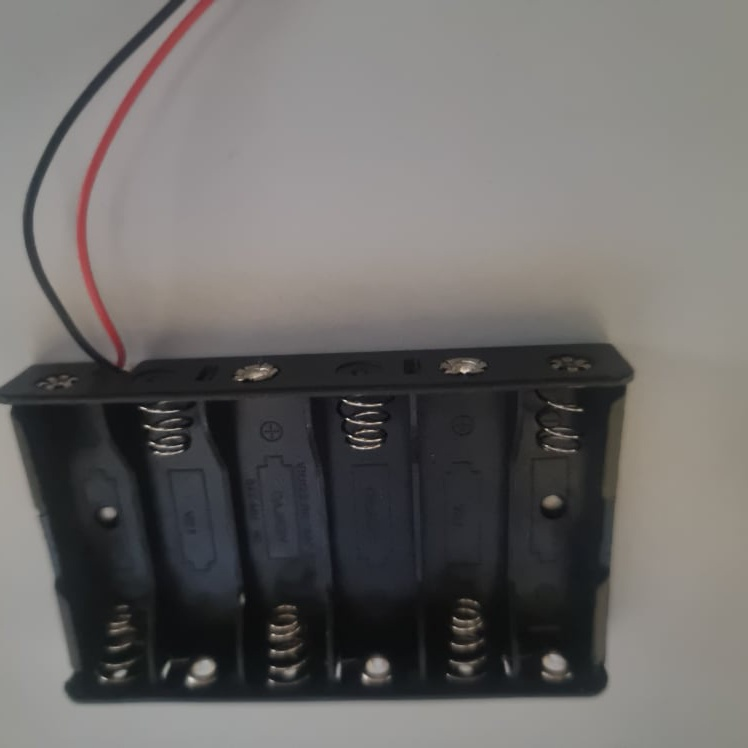BATTERY BOX: (0, 344, 632, 705)
